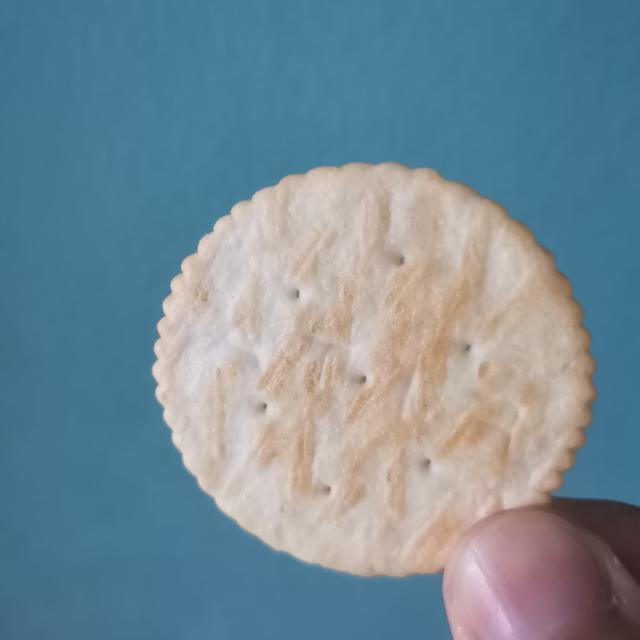Intact: (147, 158, 601, 585)
